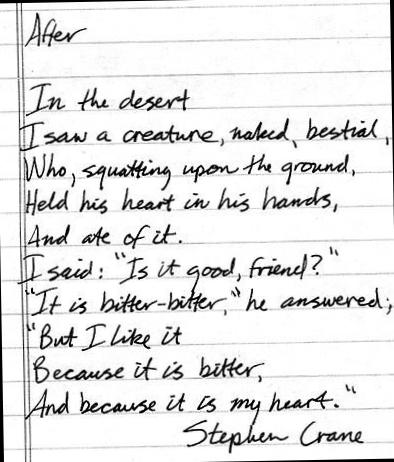text: (22, 381, 358, 431), (17, 243, 342, 294), (21, 144, 357, 193), (21, 280, 393, 323), (16, 113, 393, 154), (21, 183, 340, 218), (31, 349, 268, 389), (180, 416, 366, 456), (25, 78, 193, 118), (24, 318, 185, 352), (25, 222, 184, 254), (23, 11, 90, 50)
